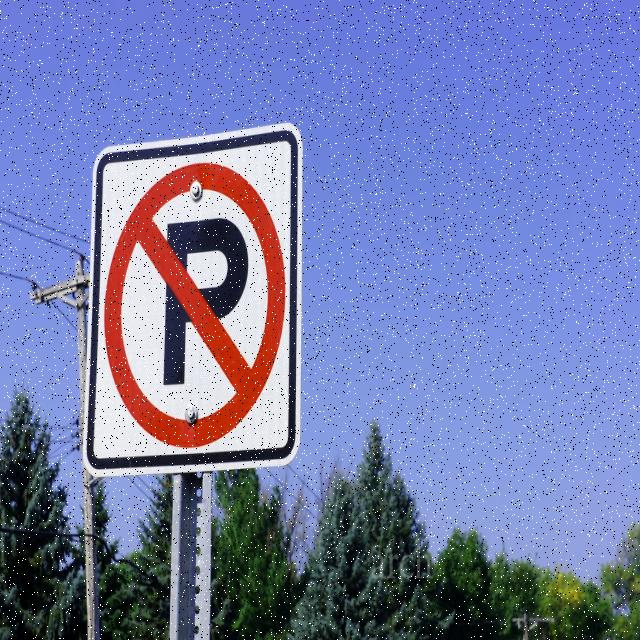No_parking: (105, 154, 285, 447)
